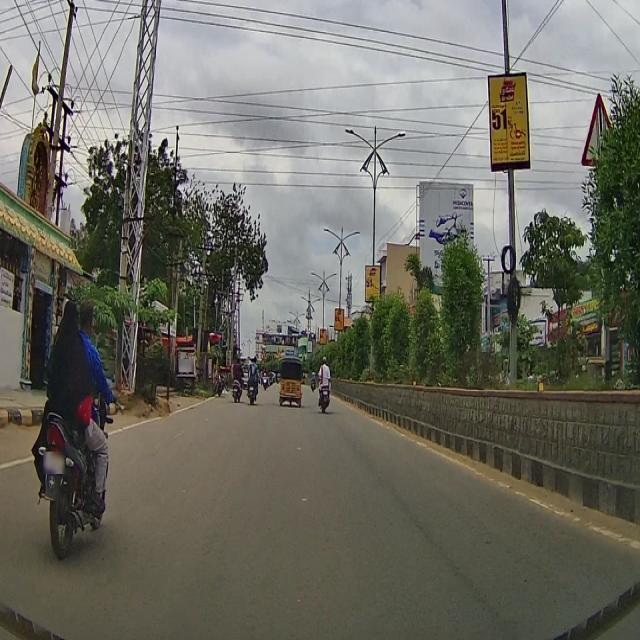gap-in-median: (579, 94, 618, 171)
